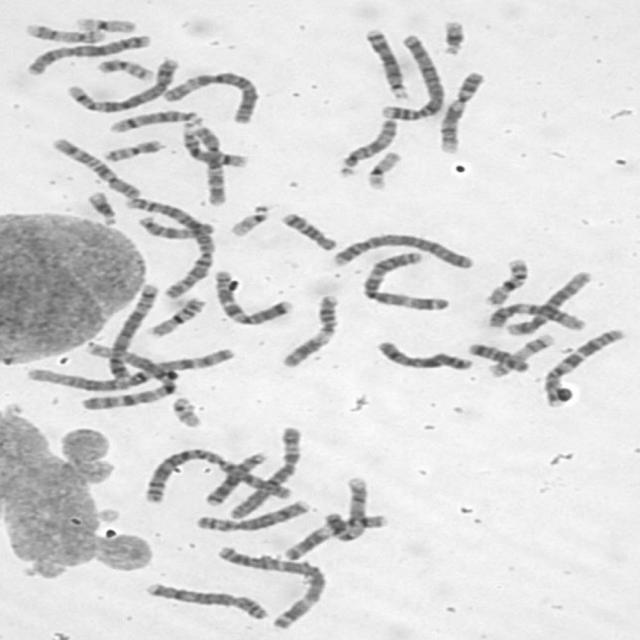A1: (28, 345, 235, 394), (80, 338, 182, 412)
A2: (126, 193, 217, 302), (141, 449, 298, 506)
A3: (213, 544, 328, 630), (358, 248, 452, 312)
B4: (377, 32, 446, 122), (326, 231, 475, 271)
B5: (66, 57, 180, 113), (104, 280, 160, 380)
C10: (48, 136, 142, 200), (192, 126, 229, 207)
C11: (278, 511, 389, 563), (276, 292, 342, 370)
C12: (502, 267, 594, 338), (484, 300, 586, 332)
C6: (228, 426, 304, 518), (162, 69, 260, 125)
C7: (539, 326, 626, 408), (210, 268, 294, 327)
C8: (144, 580, 272, 622), (191, 498, 312, 534)
C9: (435, 68, 486, 155), (325, 475, 370, 542)
D13: (201, 448, 269, 509), (362, 26, 409, 101)
D14: (179, 122, 248, 169), (107, 107, 204, 134)
D15: (334, 117, 400, 179), (134, 213, 216, 240)
E16: (145, 294, 207, 338), (482, 255, 531, 308)
E17: (484, 331, 557, 378), (22, 21, 108, 44)
E18: (278, 210, 338, 251), (466, 341, 531, 373)
F19: (362, 148, 403, 192), (72, 15, 138, 34)
F20: (101, 136, 167, 162), (92, 56, 156, 82)
G21: (84, 189, 120, 227), (438, 18, 467, 57)
G22: (226, 204, 271, 238), (168, 394, 205, 430)
X: (24, 32, 156, 77), (374, 339, 474, 372)
